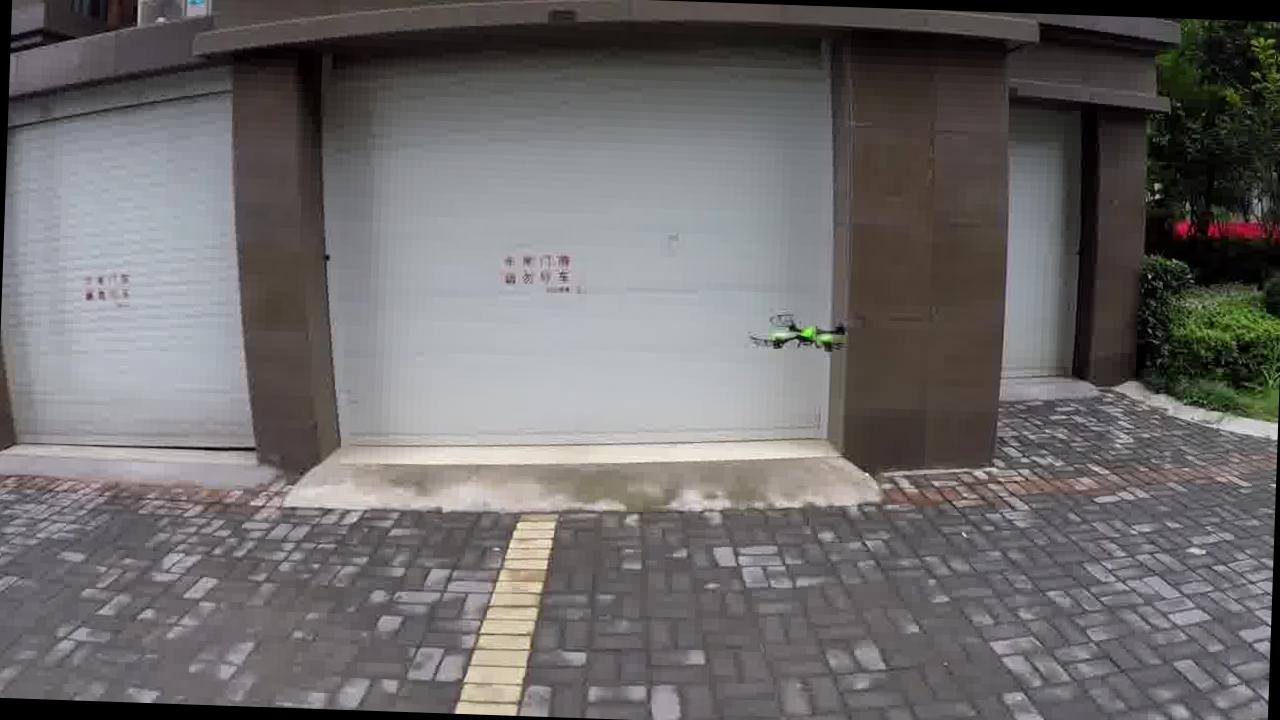drone: (743, 307, 869, 369)
